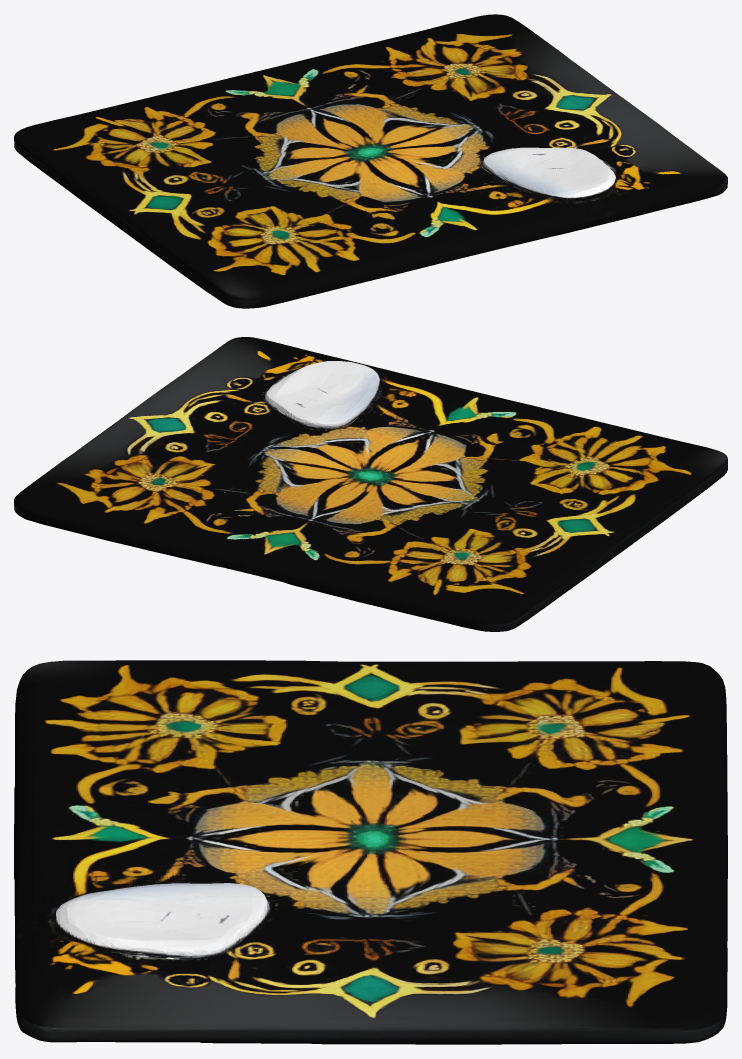
The model's file is cork-mouse-pad-art-deco.jpeg.glb.
3 renders of one model, top to bottom at view 1: azimuth 30°, elevation 25°; view 2: azimuth 150°, elevation 25°; view 3: azimuth 270°, elevation 25°, orthographic. The views are drawn at different scales.
Visible parts, largest first — view 1: world; view 2: world; view 3: world.
Boxes of the visible parts, left/top/right/bottom form: world: left=14, top=14, right=727, bottom=308; world: left=14, top=337, right=727, bottom=631; world: left=14, top=660, right=727, bottom=1044.
Size of the model in its own units: 0.9997 by 0.0471 by 0.8198.
1 material, 1 textured.
